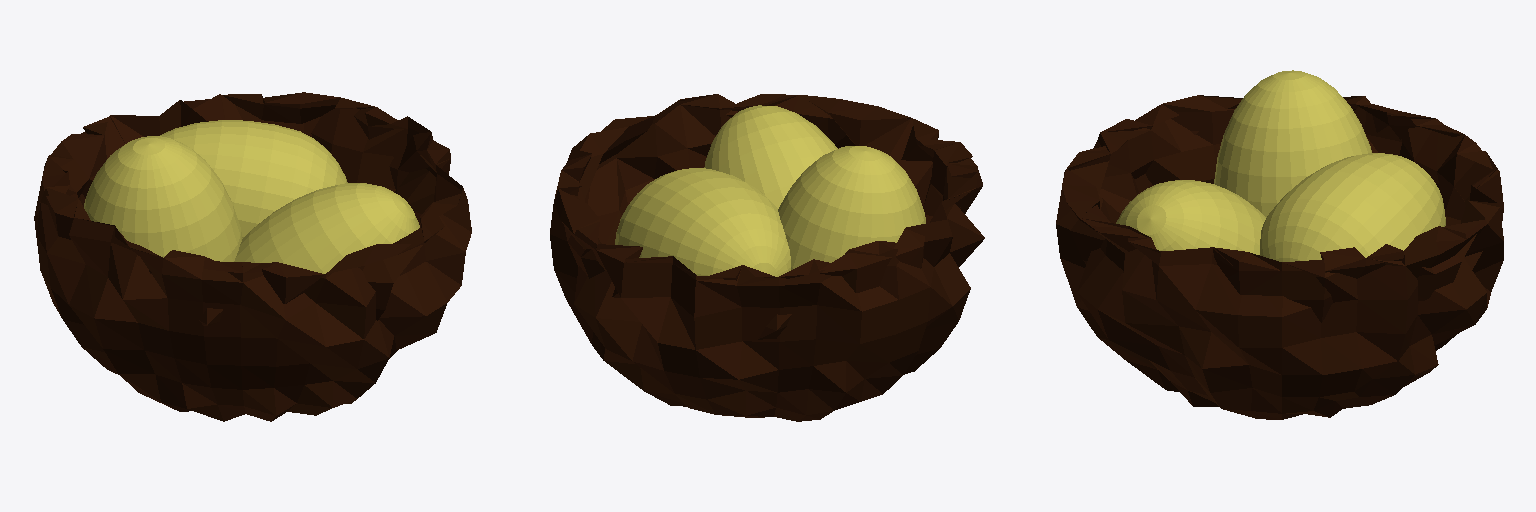
The model's file is Birdnest.obj.
3 views of the same model, side by side, from view 1: azimuth 30°, elevation 25°; view 2: azimuth 150°, elevation 25°; view 3: azimuth 270°, elevation 25° (orthographic).
Visible parts, largest first — view 1: 球, 球.001_球.004, 球.003_球.005, 球.002_球.003; view 2: 球, 球.003_球.005, 球.001_球.004, 球.002_球.003; view 3: 球, 球.003_球.005, 球.001_球.004, 球.002_球.003.
Boxes of the visible parts, box(x1,y1,x2,y2) form: 球: box(34, 92, 471, 421); 球.001_球.004: box(84, 136, 242, 261); 球.003_球.005: box(160, 120, 347, 237); 球.002_球.003: box(234, 183, 419, 273); 球: box(550, 94, 984, 421); 球.003_球.005: box(615, 168, 790, 276); 球.001_球.004: box(778, 146, 925, 269); 球.002_球.003: box(704, 105, 837, 208); 球: box(1056, 95, 1503, 419); 球.003_球.005: box(1260, 153, 1445, 261); 球.001_球.004: box(1214, 70, 1371, 217); 球.002_球.003: box(1116, 180, 1265, 254).
Bounding box in the file's own units: 2.23 × 1.53 × 2.33.